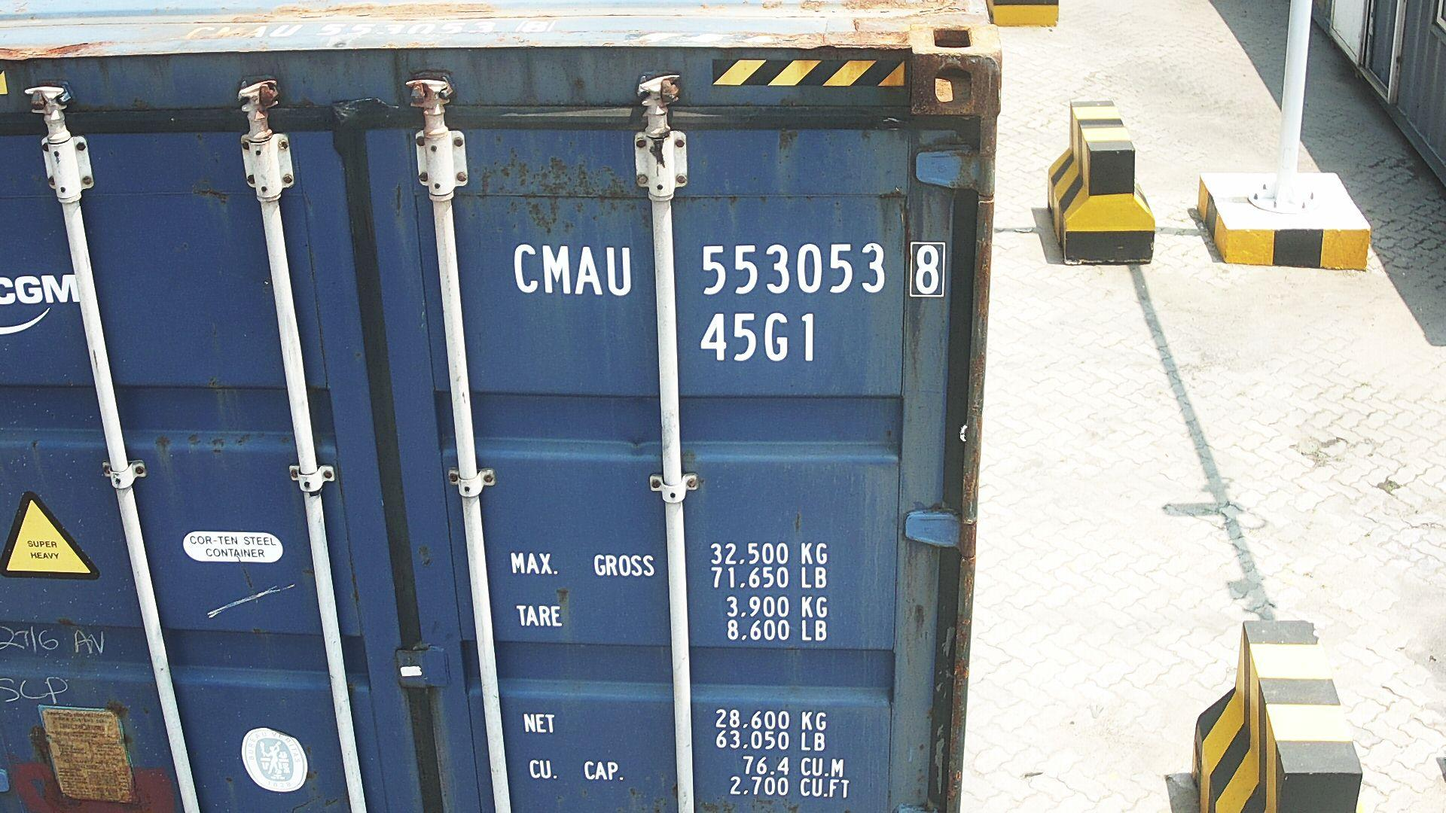container-numbers: (511, 239, 953, 305), (697, 309, 823, 367)
